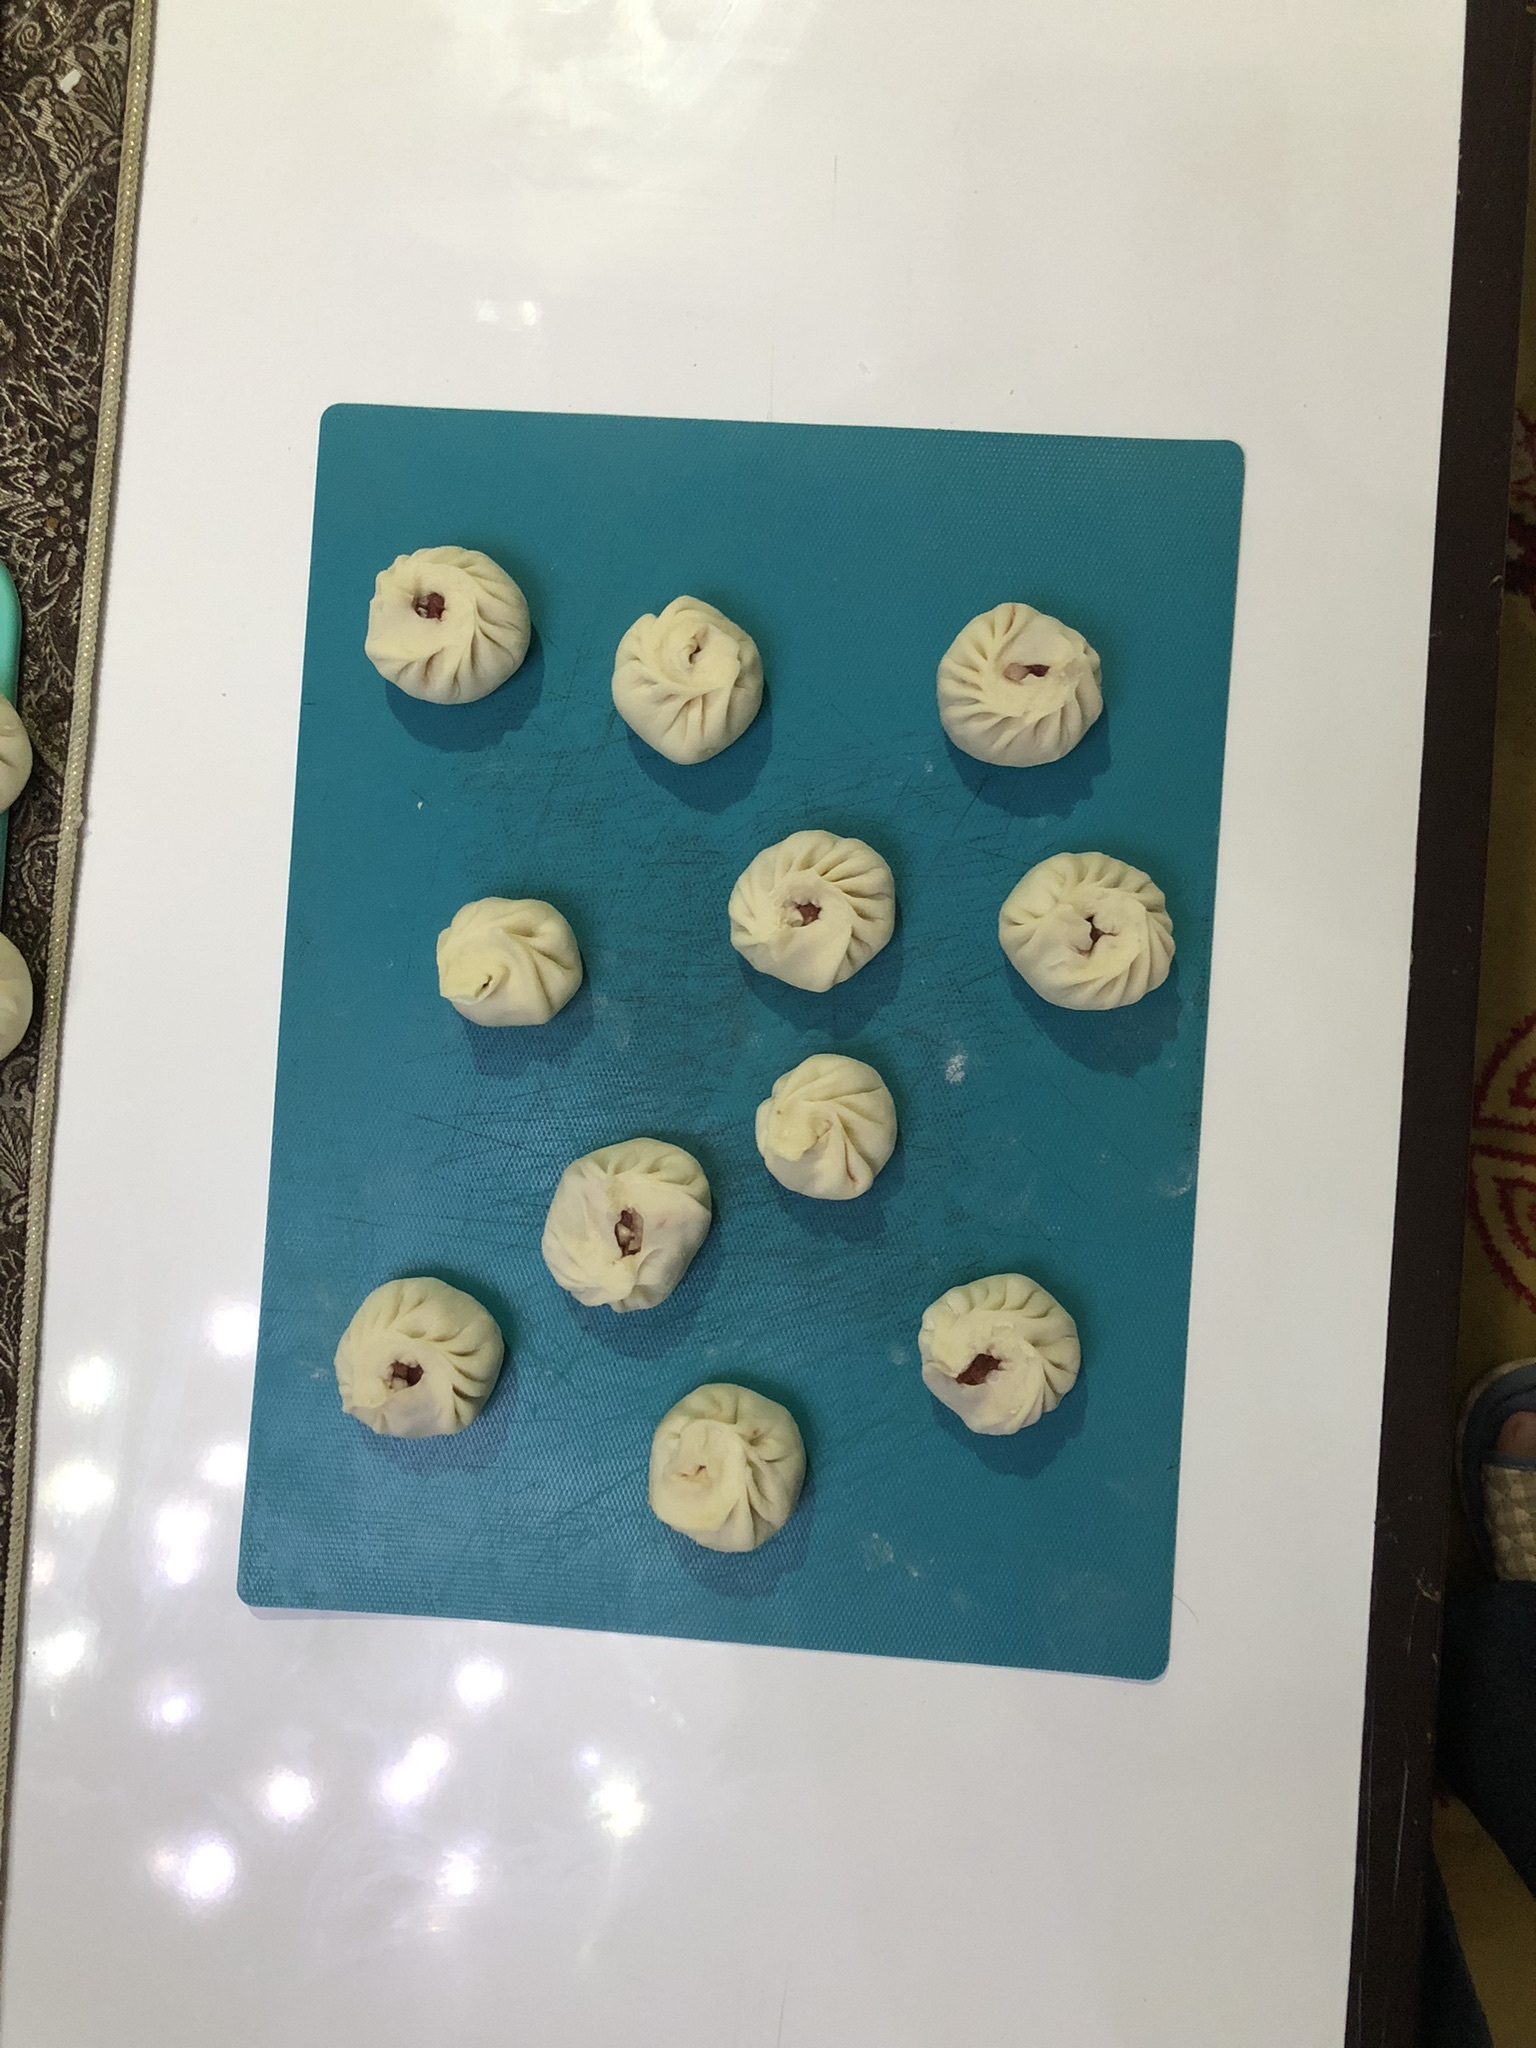buuz: (524, 1121, 720, 1319), (987, 839, 1184, 1026), (907, 1261, 1094, 1450), (926, 593, 1113, 777), (641, 1364, 816, 1559), (716, 822, 913, 997), (326, 1268, 516, 1447), (600, 587, 774, 777), (358, 534, 542, 713), (742, 1042, 904, 1209), (423, 889, 594, 1039)
